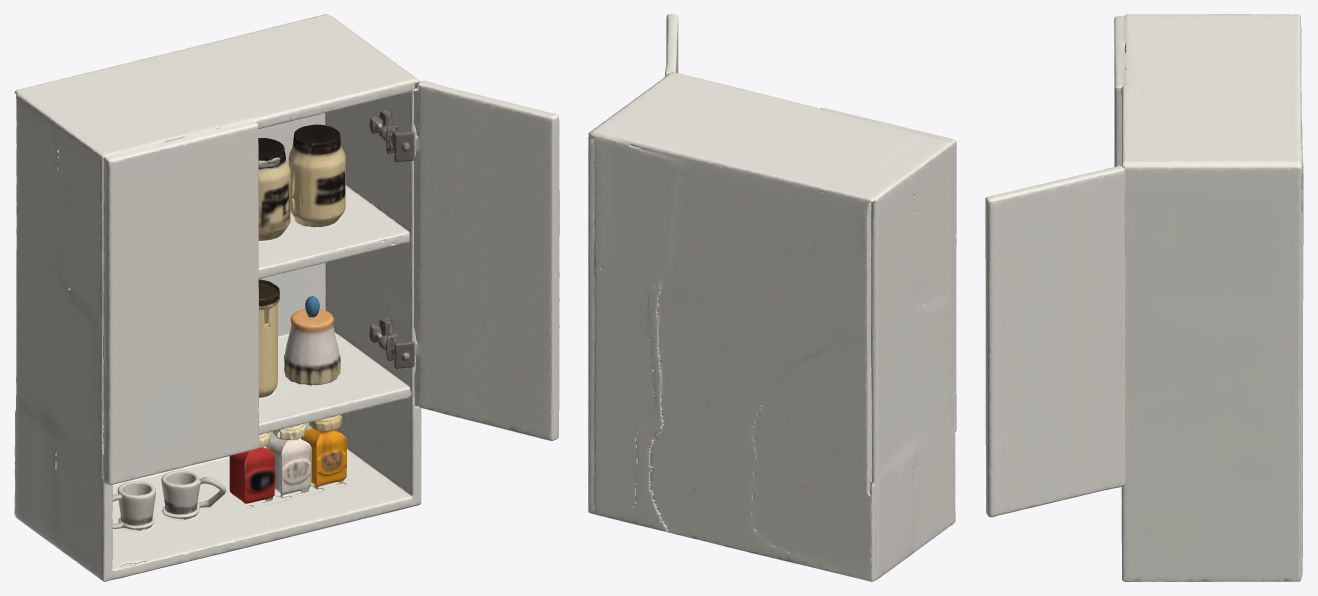
The model's file is cabinet_wall_mounted.glb.
3 views of the same model, side by side, from view 1: azimuth 30°, elevation 25°; view 2: azimuth 150°, elevation 25°; view 3: azimuth 270°, elevation 25° (orthographic). The views are drawn at different scales.
Parts seen in each view (by area): view 1: world; view 2: world; view 3: world.
Boxes of the visible parts, x1,y1,x2,y2 form: world: (14, 14, 559, 581); world: (588, 14, 956, 581); world: (985, 14, 1303, 581).
Size of the model in its own units: 0.9574 by 1 by 0.6907.
1 material, 1 textured.
